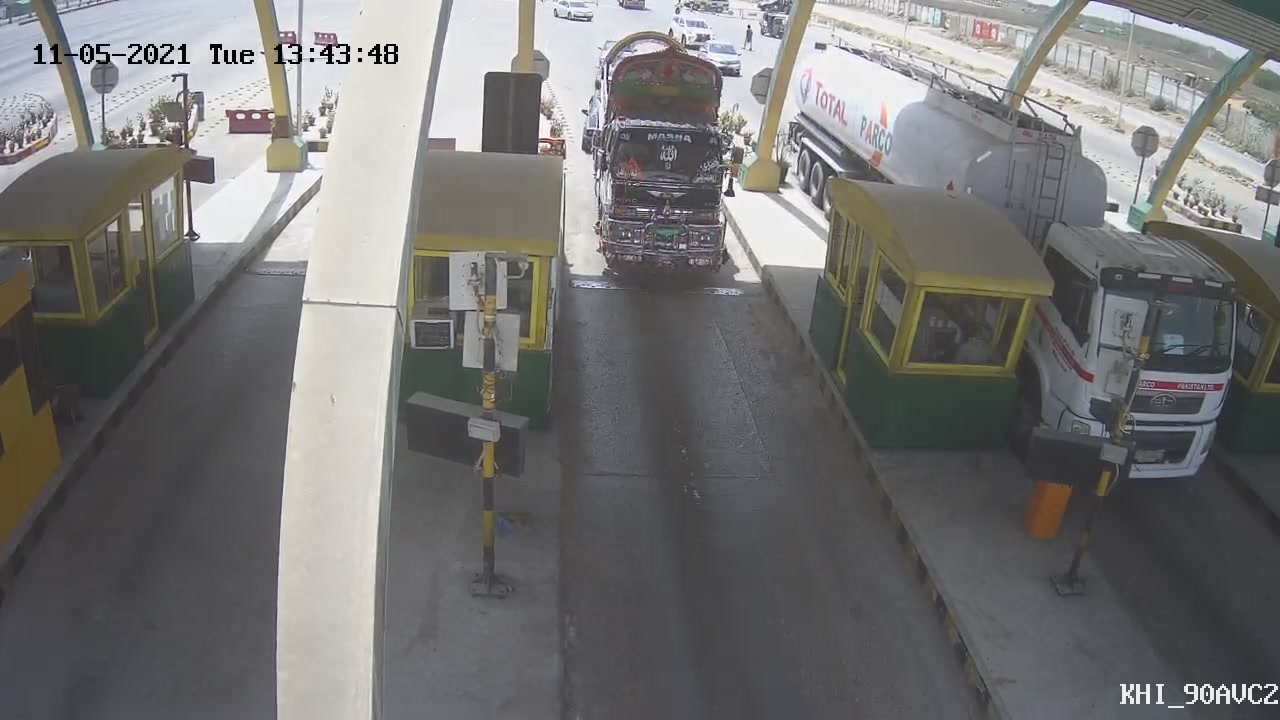F5: (588, 28, 741, 295)
